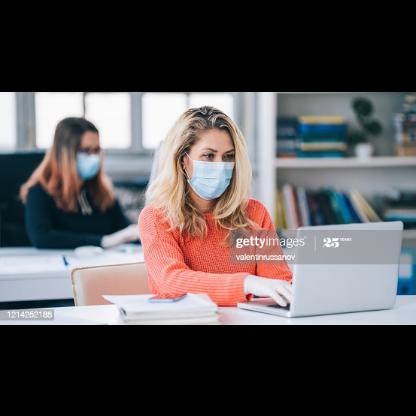Surgical Mask: (182, 138, 236, 196), (74, 130, 102, 173)
